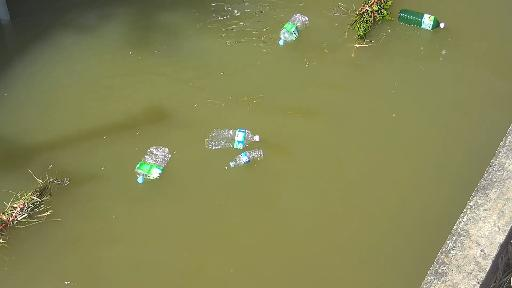plastic: (127, 134, 174, 180), (206, 125, 265, 153), (394, 8, 447, 33), (273, 18, 316, 43), (222, 148, 266, 169)
twig: (0, 156, 66, 244), (333, 0, 396, 56)
